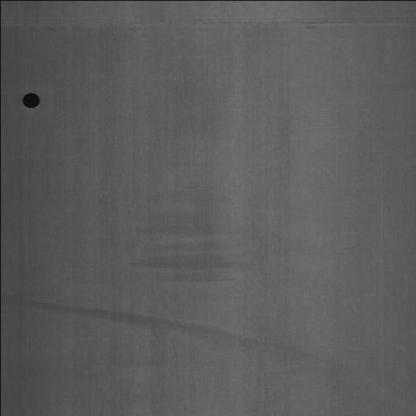punching_hole: (17, 84, 41, 112)
